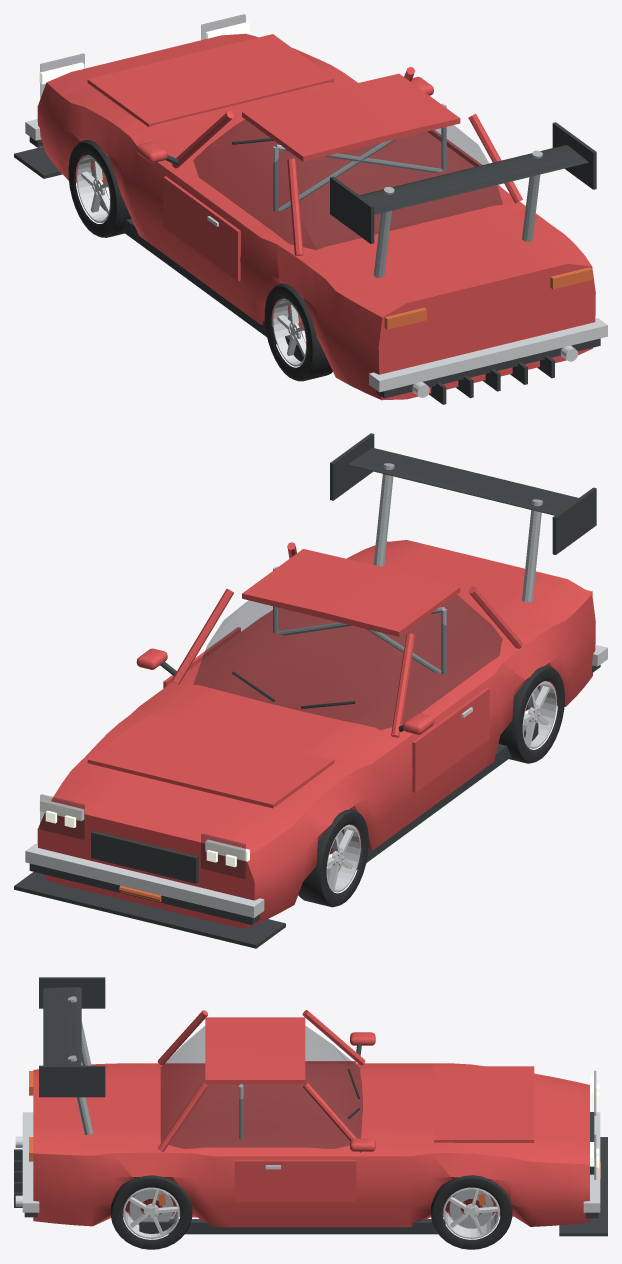
File: cup_coupe.glb
3 views of the same model, one above another, from view 1: azimuth 30°, elevation 25°; view 2: azimuth 150°, elevation 25°; view 3: azimuth 270°, elevation 25° (orthographic). The views are drawn at different scales.
Parts seen in each view (by area): view 1: Body, Wheel_RL, Wheel_FL; view 2: Body, Wheel_FL, Wheel_RL; view 3: Body, Wheel_FR, Wheel_RR.
Part boxes in pixels (bbox=[...]): Body: bbox=[14, 14, 607, 404]; Wheel_RL: bbox=[264, 283, 332, 381]; Wheel_FL: bbox=[68, 140, 131, 237]; Body: bbox=[14, 433, 607, 948]; Wheel_FL: bbox=[298, 809, 368, 907]; Wheel_RL: bbox=[498, 665, 564, 763]; Body: bbox=[14, 977, 607, 1236]; Wheel_FR: bbox=[430, 1175, 512, 1249]; Wheel_RR: bbox=[110, 1175, 192, 1249].
Bounding box in the file's own units: 2.1 × 1.54 × 4.64.
